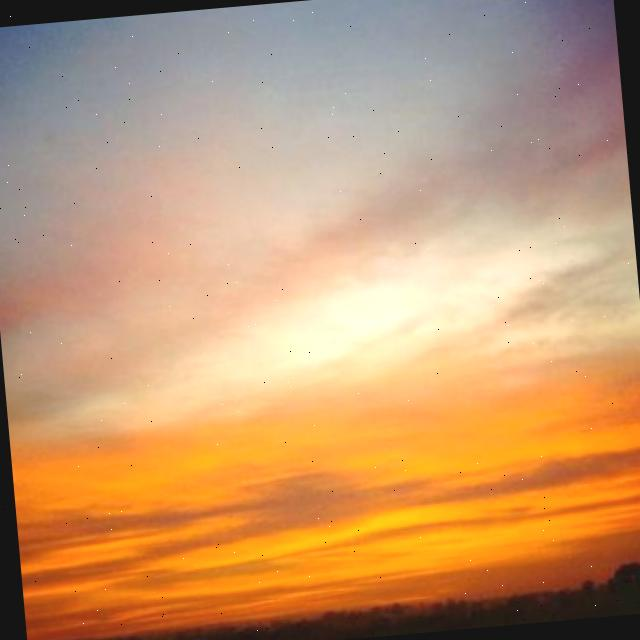Cs: (1, 92, 640, 563)
